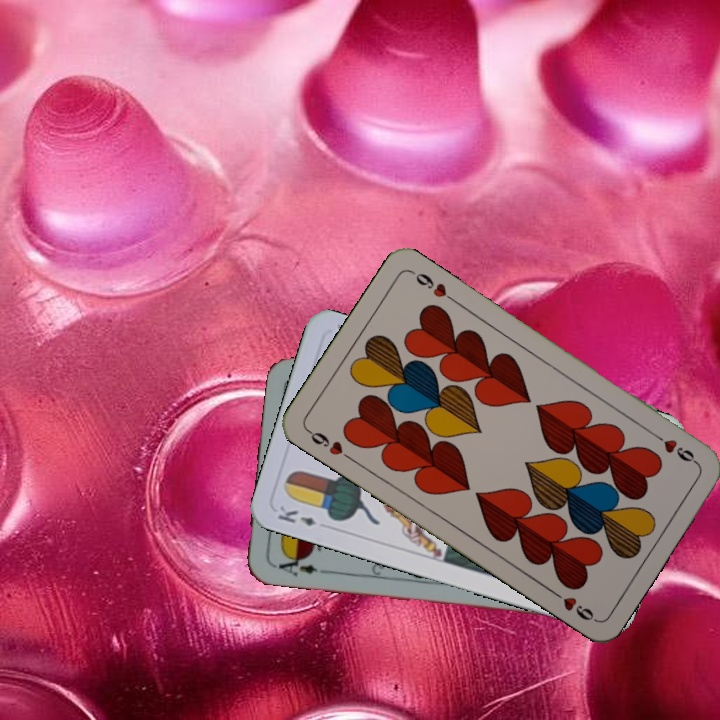EA: (269, 550, 320, 579)
EK: (273, 502, 319, 529)
H9: (648, 428, 700, 467), (303, 425, 355, 463)
